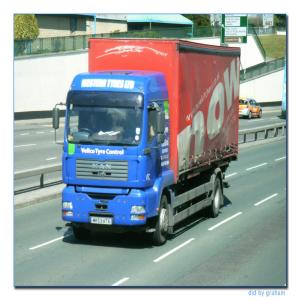Vehicle-registration-plate: (92, 219, 112, 226)
